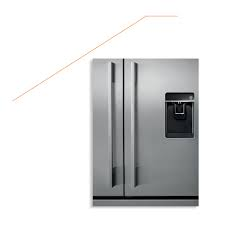handle: (105, 63, 117, 188), (128, 61, 139, 189)
refrigerator door: (124, 61, 198, 199), (93, 61, 124, 197)
